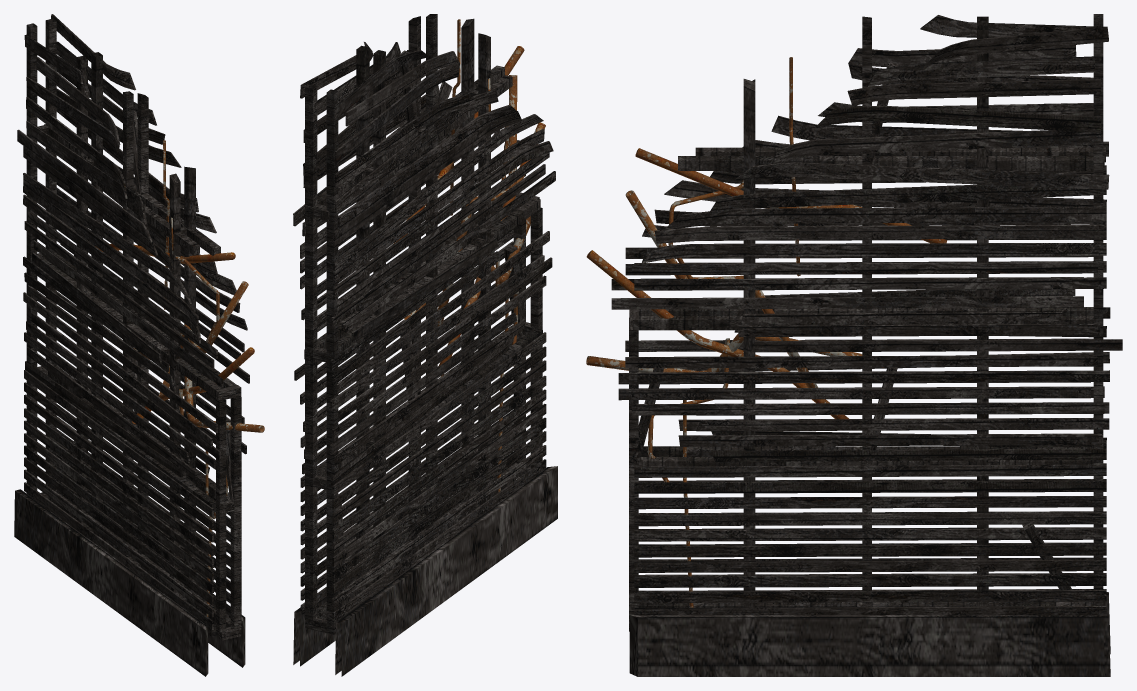
Rendered from SM_Basement_Wall_4m.fbx.
3 views of the same model, side by side, from view 1: azimuth 30°, elevation 25°; view 2: azimuth 150°, elevation 25°; view 3: azimuth 270°, elevation 25° (orthographic). The views are drawn at different scales.
Visible parts, largest first — view 1: SM_Basement_Wall_4m.mo; view 2: SM_Basement_Wall_4m.mo; view 3: SM_Basement_Wall_4m.mo.
Part boxes in pixels (x1=…): SM_Basement_Wall_4m.mo: x1=14, y1=14, x2=264, y2=676; SM_Basement_Wall_4m.mo: x1=293, y1=14, x2=557, y2=676; SM_Basement_Wall_4m.mo: x1=586, y1=14, x2=1122, y2=676.
Bounding box in the file's own units: 72.3 × 590 × 444.
